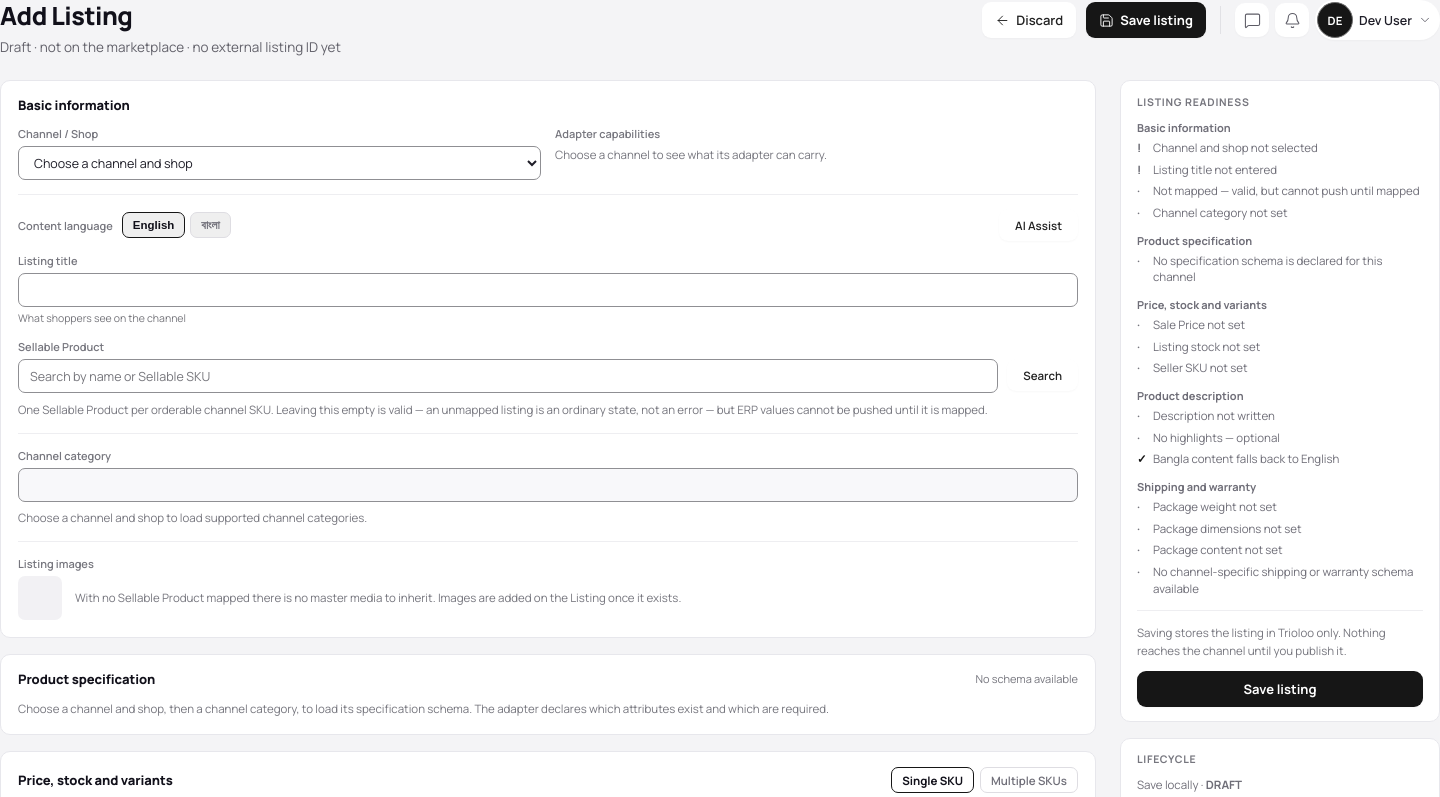
Scenario: Frame 09 — basic information › states an empty search result rather than showing nothing
Click the button with test id "sellable-search-run": x=1043, y=375 left=1007, top=359, right=1078, bottom=391
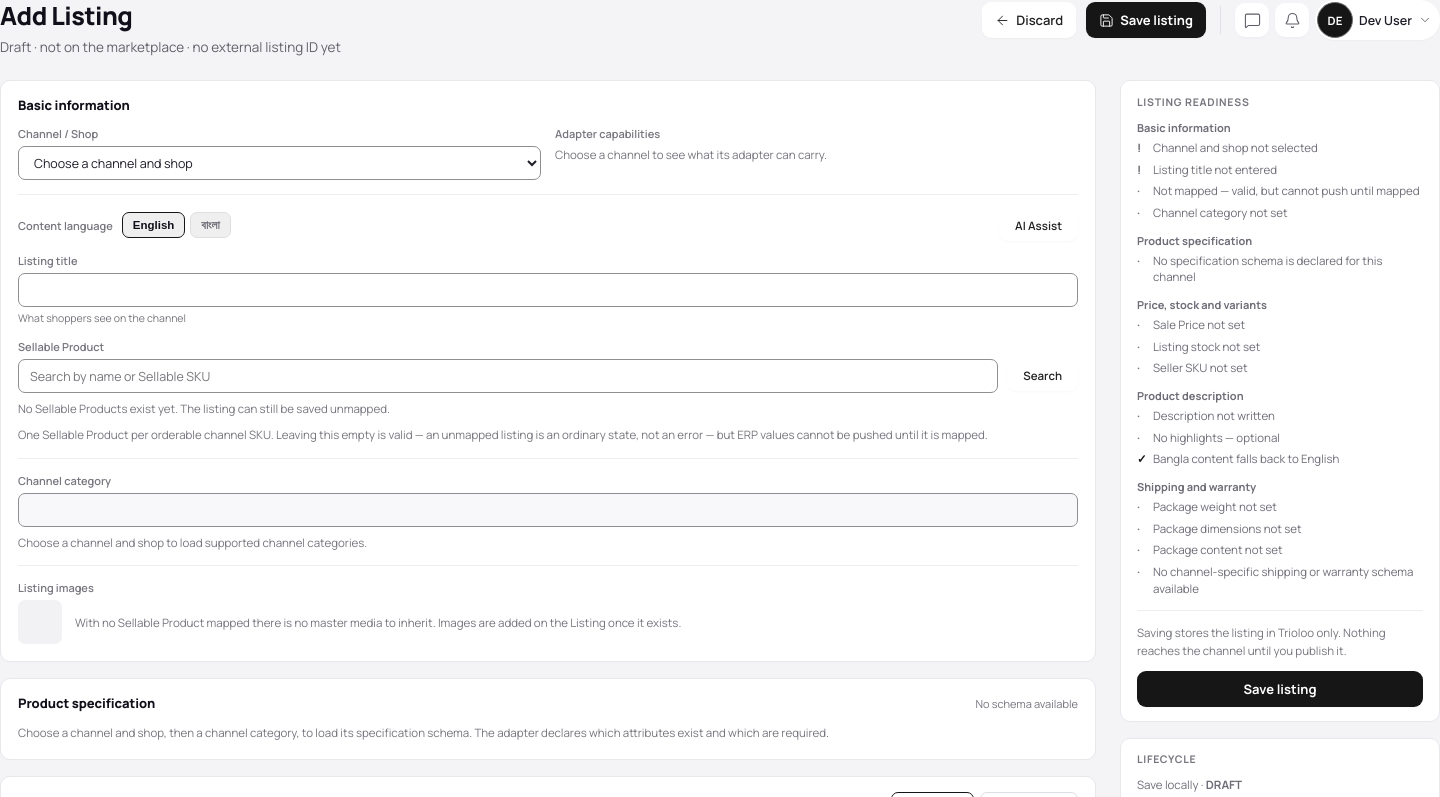
Check: the text with test id "sellable-no-results" shows "No Sellable Products exist yet", box left=18, top=401, right=390, bottom=416
